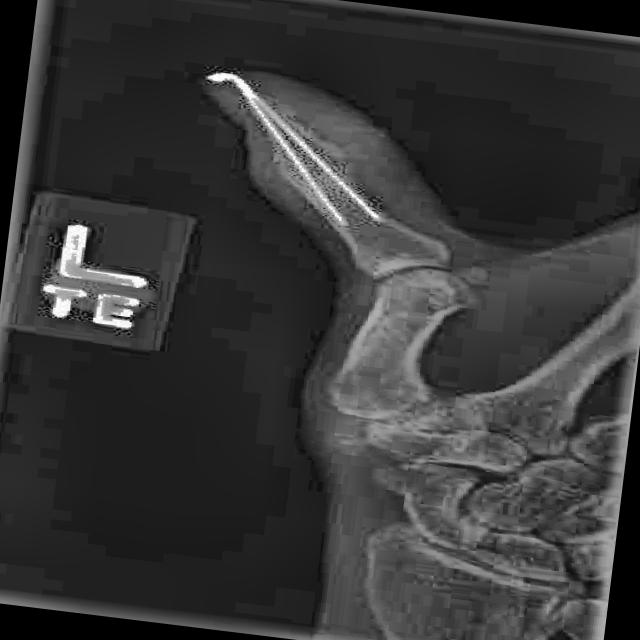fingers positive: (263, 153, 379, 191)
